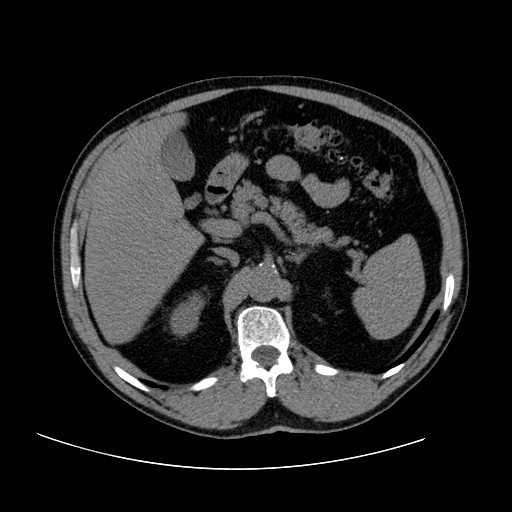vesicula: (158, 128, 198, 185)
